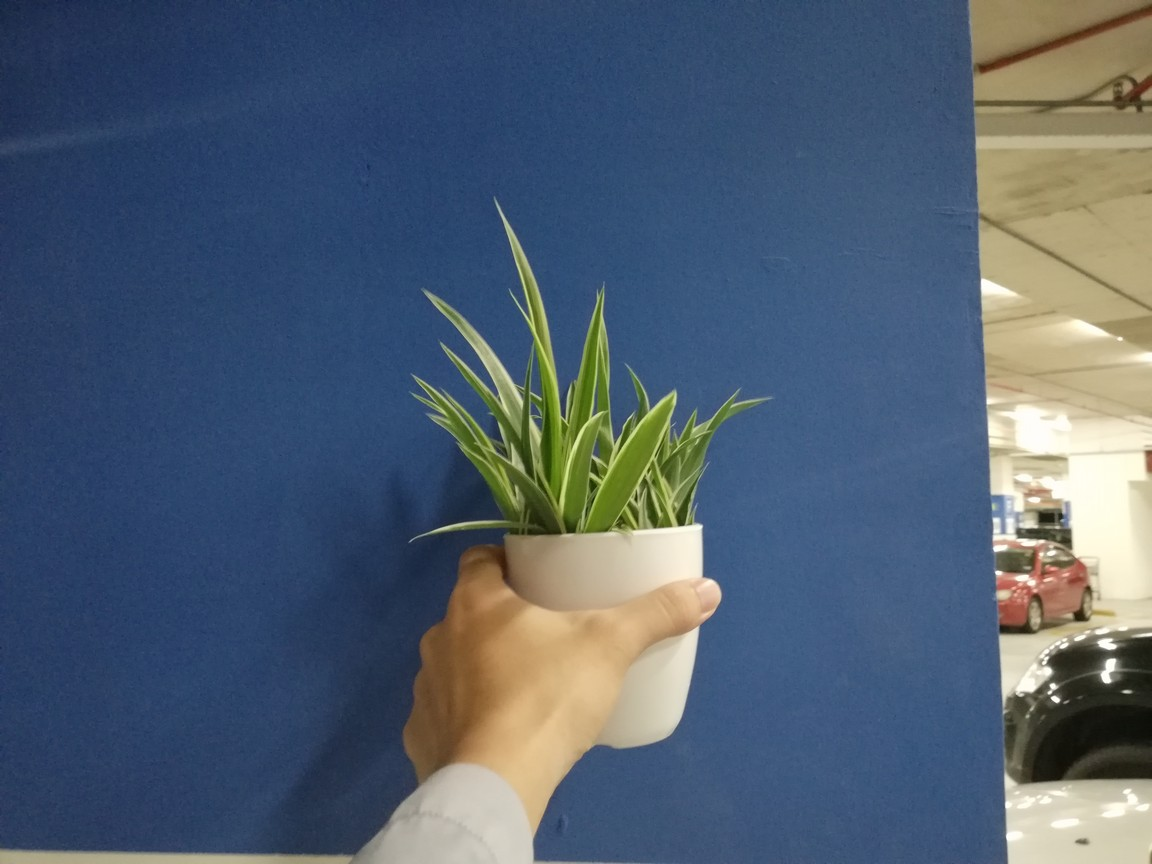daun: (491, 193, 561, 290), (419, 286, 505, 363), (561, 410, 609, 528), (620, 386, 678, 461), (438, 343, 501, 407), (408, 518, 502, 553), (579, 282, 607, 381), (506, 287, 550, 347), (409, 371, 460, 421), (476, 443, 522, 490), (678, 461, 712, 522), (438, 384, 478, 434), (623, 359, 651, 411), (520, 343, 535, 433), (425, 412, 460, 442), (715, 387, 745, 420), (735, 396, 777, 418), (407, 391, 445, 413), (679, 406, 700, 439)
